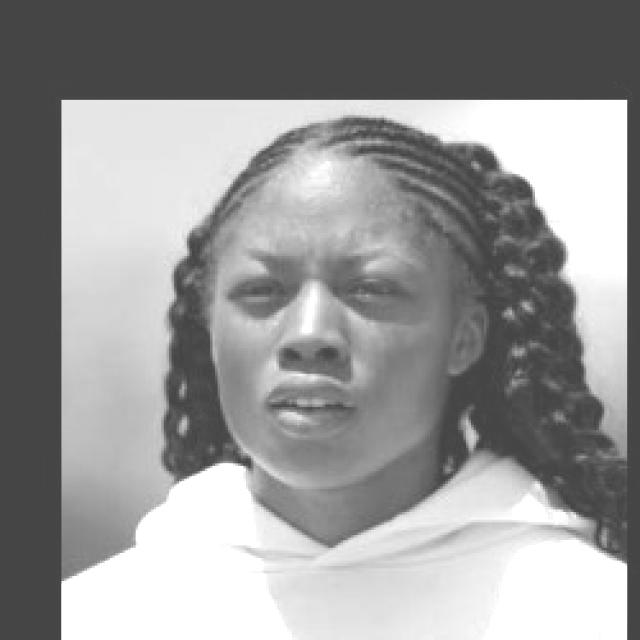real: (210, 163, 458, 490), (226, 266, 414, 316)
